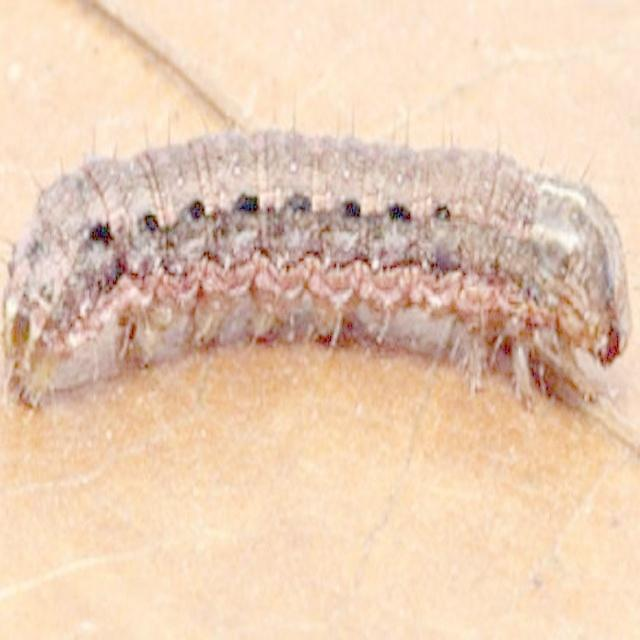worm: (1, 126, 635, 420)
